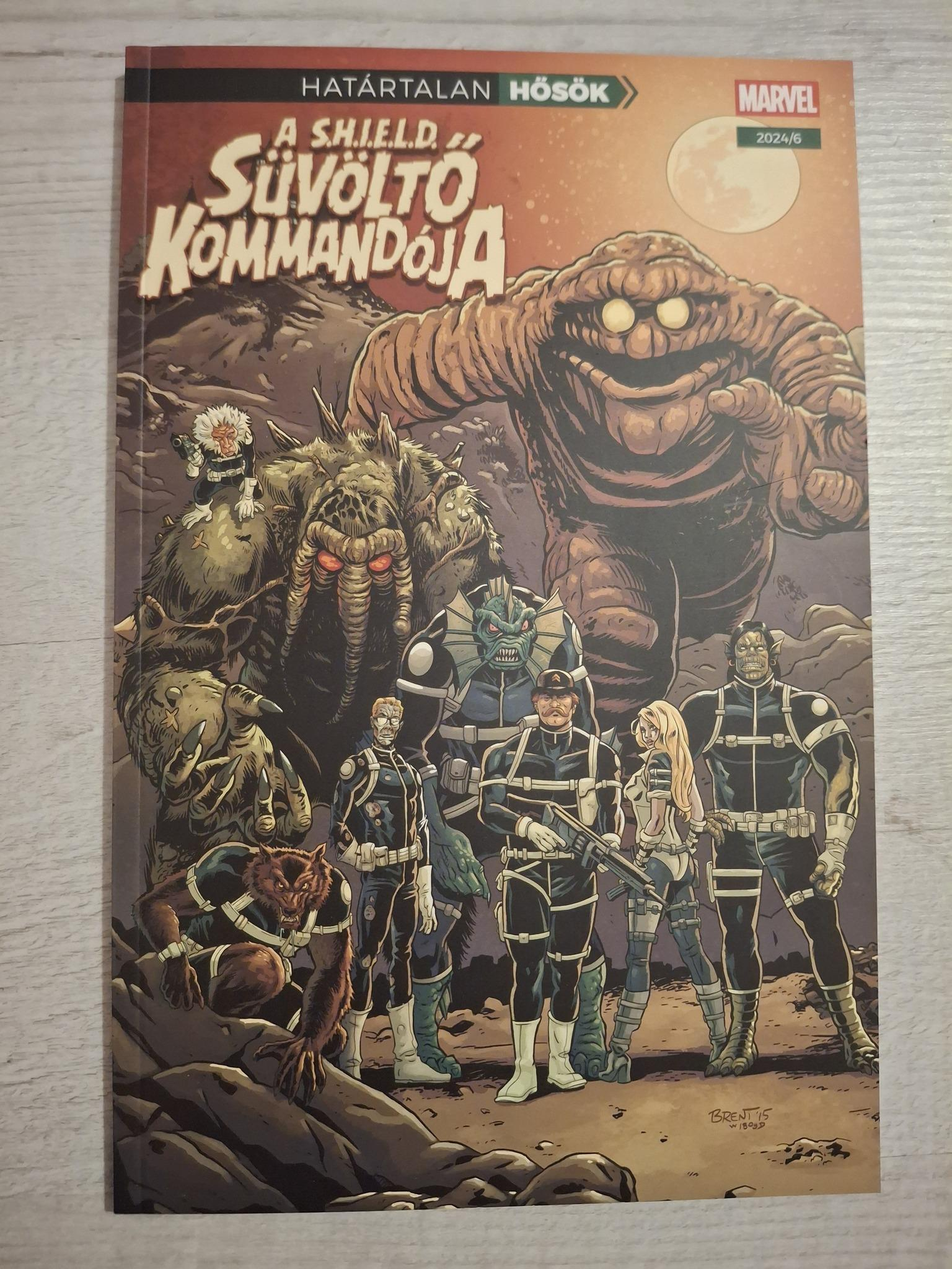comic: (101, 40, 880, 1213)
